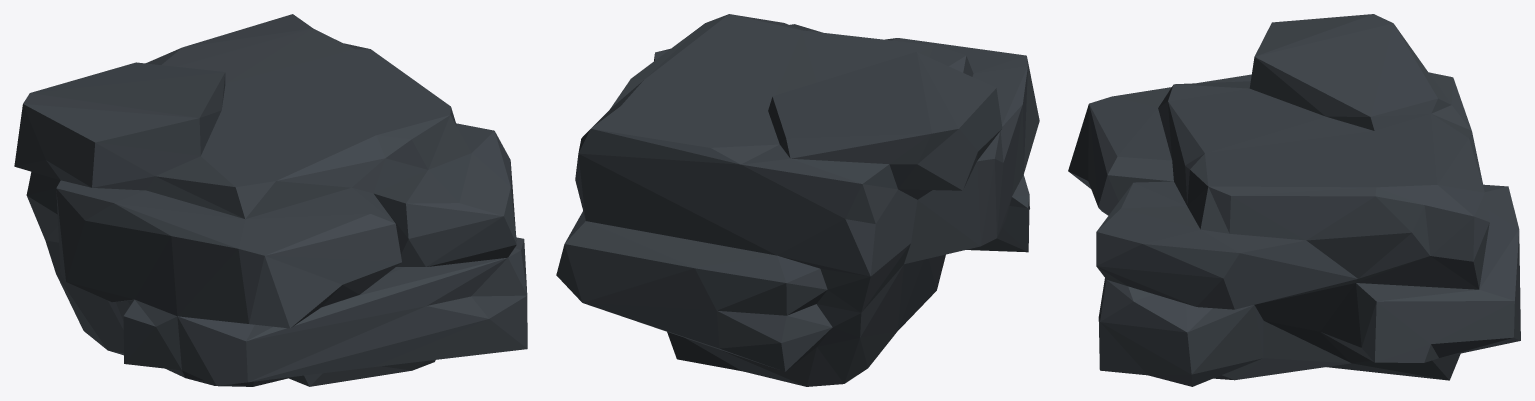
The model's file is MDungeon_CavernRock_Small_02.FBX.
3 renders of one model, left to right at view 1: azimuth 30°, elevation 25°; view 2: azimuth 150°, elevation 25°; view 3: azimuth 270°, elevation 25°, orthographic. The views are drawn at different scales.
Parts seen in each view (by area): view 1: MDungeon_CavernRock_Small_02_LOD0; view 2: MDungeon_CavernRock_Small_02_LOD0; view 3: MDungeon_CavernRock_Small_02_LOD0.
Part boxes in pixels (left/top/right/bottom): MDungeon_CavernRock_Small_02_LOD0: left=14, top=14, right=527, bottom=386; MDungeon_CavernRock_Small_02_LOD0: left=556, top=14, right=1039, bottom=386; MDungeon_CavernRock_Small_02_LOD0: left=1068, top=14, right=1520, bottom=386.
Size of what is drawn, in the model's own units: 9.78 by 6.51 by 10.29.
